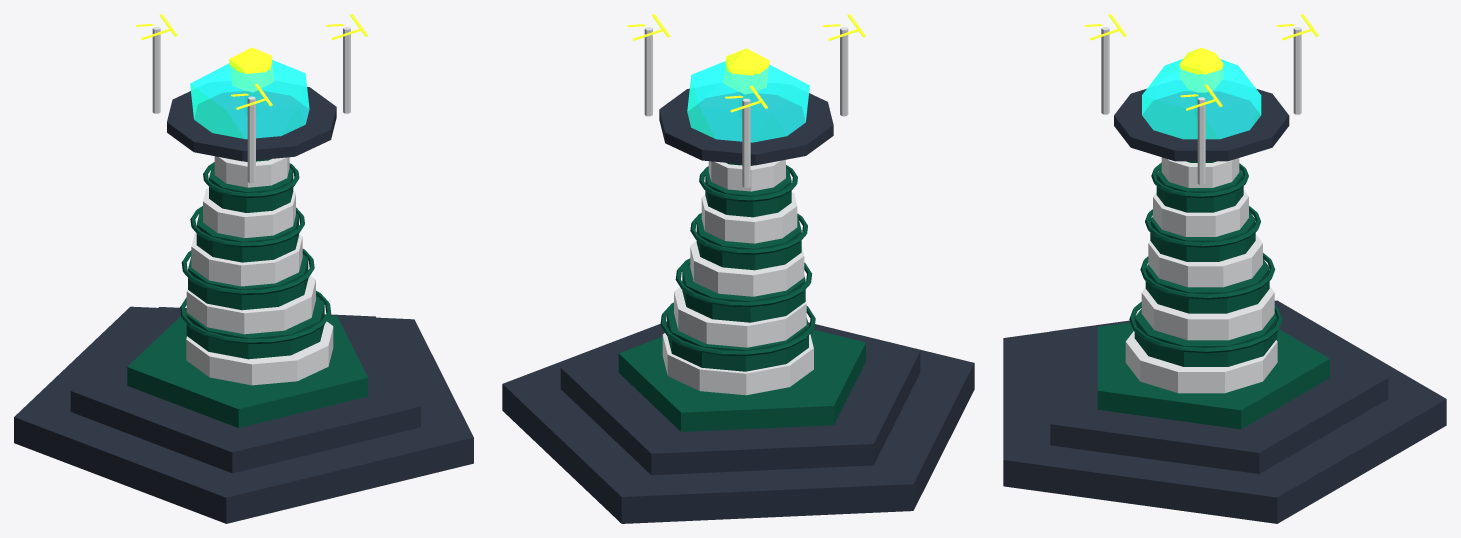
Rendered from ubb_hq.glb.
3 views of the same model, side by side, from view 1: azimuth 30°, elevation 25°; view 2: azimuth 150°, elevation 25°; view 3: azimuth 270°, elevation 25° (orthographic). The views are drawn at different scales.
Visible parts, largest first — view 1: UBB_Plinth1, UBB_Plinth2, UBB_Plinth3, UBB_DomeDeck, UBB_BioDome, UBB_Spiral_0, UBB_Spiral_2, UBB_Spiral_1, UBB_Spiral_4, UBB_Spiral_3, UBB_Spiral_6, UBB_Spiral_5 (+10 smaller); view 2: UBB_Plinth1, UBB_Plinth2, UBB_Plinth3, UBB_DomeDeck, UBB_BioDome, UBB_Spiral_0, UBB_Spiral_2, UBB_Spiral_4, UBB_Spiral_1, UBB_Spiral_3, UBB_Spiral_6, UBB_Spiral_5 (+10 smaller); view 3: UBB_Plinth1, UBB_Plinth2, UBB_Plinth3, UBB_DomeDeck, UBB_BioDome, UBB_Spiral_0, UBB_Spiral_2, UBB_Spiral_1, UBB_Spiral_4, UBB_Spiral_3, UBB_Spiral_6, UBB_Spiral_5 (+10 smaller).
Part boxes in pixels (x1=…): UBB_Plinth1: x1=14, y1=306, x2=473, y2=523; UBB_Plinth2: x1=70, y1=307, x2=420, y2=473; UBB_Plinth3: x1=127, y1=311, x2=367, y2=427; UBB_DomeDeck: x1=167, y1=86, x2=336, y2=161; UBB_BioDome: x1=190, y1=60, x2=309, y2=139; UBB_Spiral_0: x1=186, y1=321, x2=333, y2=385; UBB_Spiral_2: x1=186, y1=275, x2=315, y2=334; UBB_Spiral_1: x1=186, y1=296, x2=324, y2=359; UBB_Spiral_4: x1=191, y1=232, x2=302, y2=286; UBB_Spiral_3: x1=188, y1=254, x2=308, y2=310; UBB_Spiral_6: x1=203, y1=187, x2=295, y2=238; UBB_Spiral_5: x1=196, y1=209, x2=298, y2=262; UBB_Plinth1: x1=502, y1=321, x2=974, y2=523; UBB_Plinth2: x1=560, y1=324, x2=920, y2=475; UBB_Plinth3: x1=618, y1=330, x2=865, y2=431; UBB_DomeDeck: x1=659, y1=88, x2=833, y2=165; UBB_BioDome: x1=687, y1=61, x2=809, y2=142; UBB_Spiral_0: x1=662, y1=333, x2=813, y2=395; UBB_Spiral_2: x1=674, y1=287, x2=806, y2=347; UBB_Spiral_4: x1=690, y1=241, x2=804, y2=296; UBB_Spiral_1: x1=667, y1=308, x2=808, y2=371; UBB_Spiral_3: x1=682, y1=263, x2=805, y2=322; UBB_Spiral_6: x1=701, y1=192, x2=797, y2=243; UBB_Spiral_5: x1=696, y1=216, x2=801, y2=270; UBB_Plinth1: x1=1003, y1=300, x2=1446, y2=523; UBB_Plinth2: x1=1050, y1=312, x2=1388, y2=473; UBB_Plinth3: x1=1097, y1=322, x2=1329, y2=429; UBB_DomeDeck: x1=1114, y1=88, x2=1289, y2=161; UBB_BioDome: x1=1142, y1=59, x2=1261, y2=139; UBB_Spiral_0: x1=1125, y1=331, x2=1277, y2=393; UBB_Spiral_2: x1=1141, y1=286, x2=1274, y2=340; UBB_Spiral_1: x1=1134, y1=309, x2=1277, y2=366; UBB_Spiral_4: x1=1148, y1=234, x2=1262, y2=287; UBB_Spiral_3: x1=1145, y1=259, x2=1269, y2=313; UBB_Spiral_6: x1=1153, y1=190, x2=1248, y2=236; UBB_Spiral_5: x1=1150, y1=211, x2=1255, y2=261.
Bounding box in the file's own units: 20 × 17.94 × 19.02.
